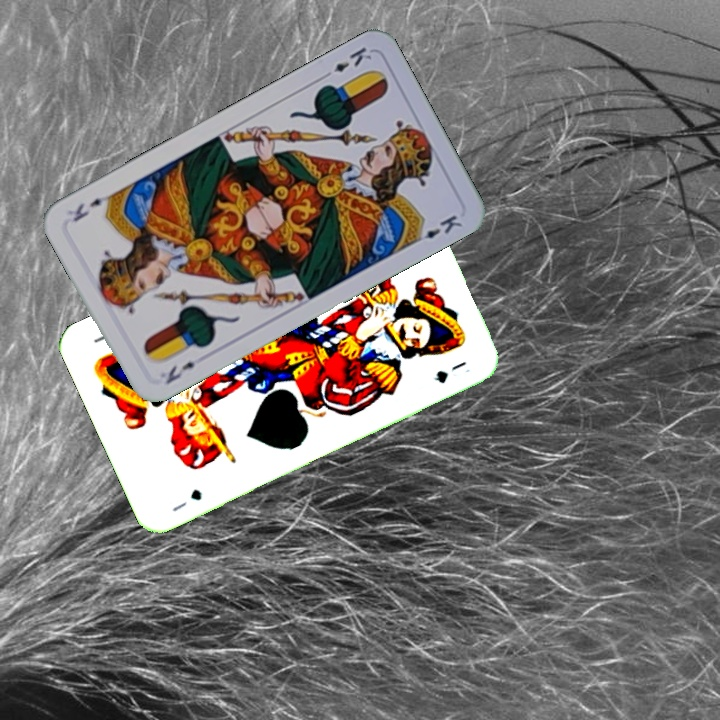EK: (318, 42, 375, 82), (161, 357, 197, 387)
GU: (168, 485, 205, 515)
